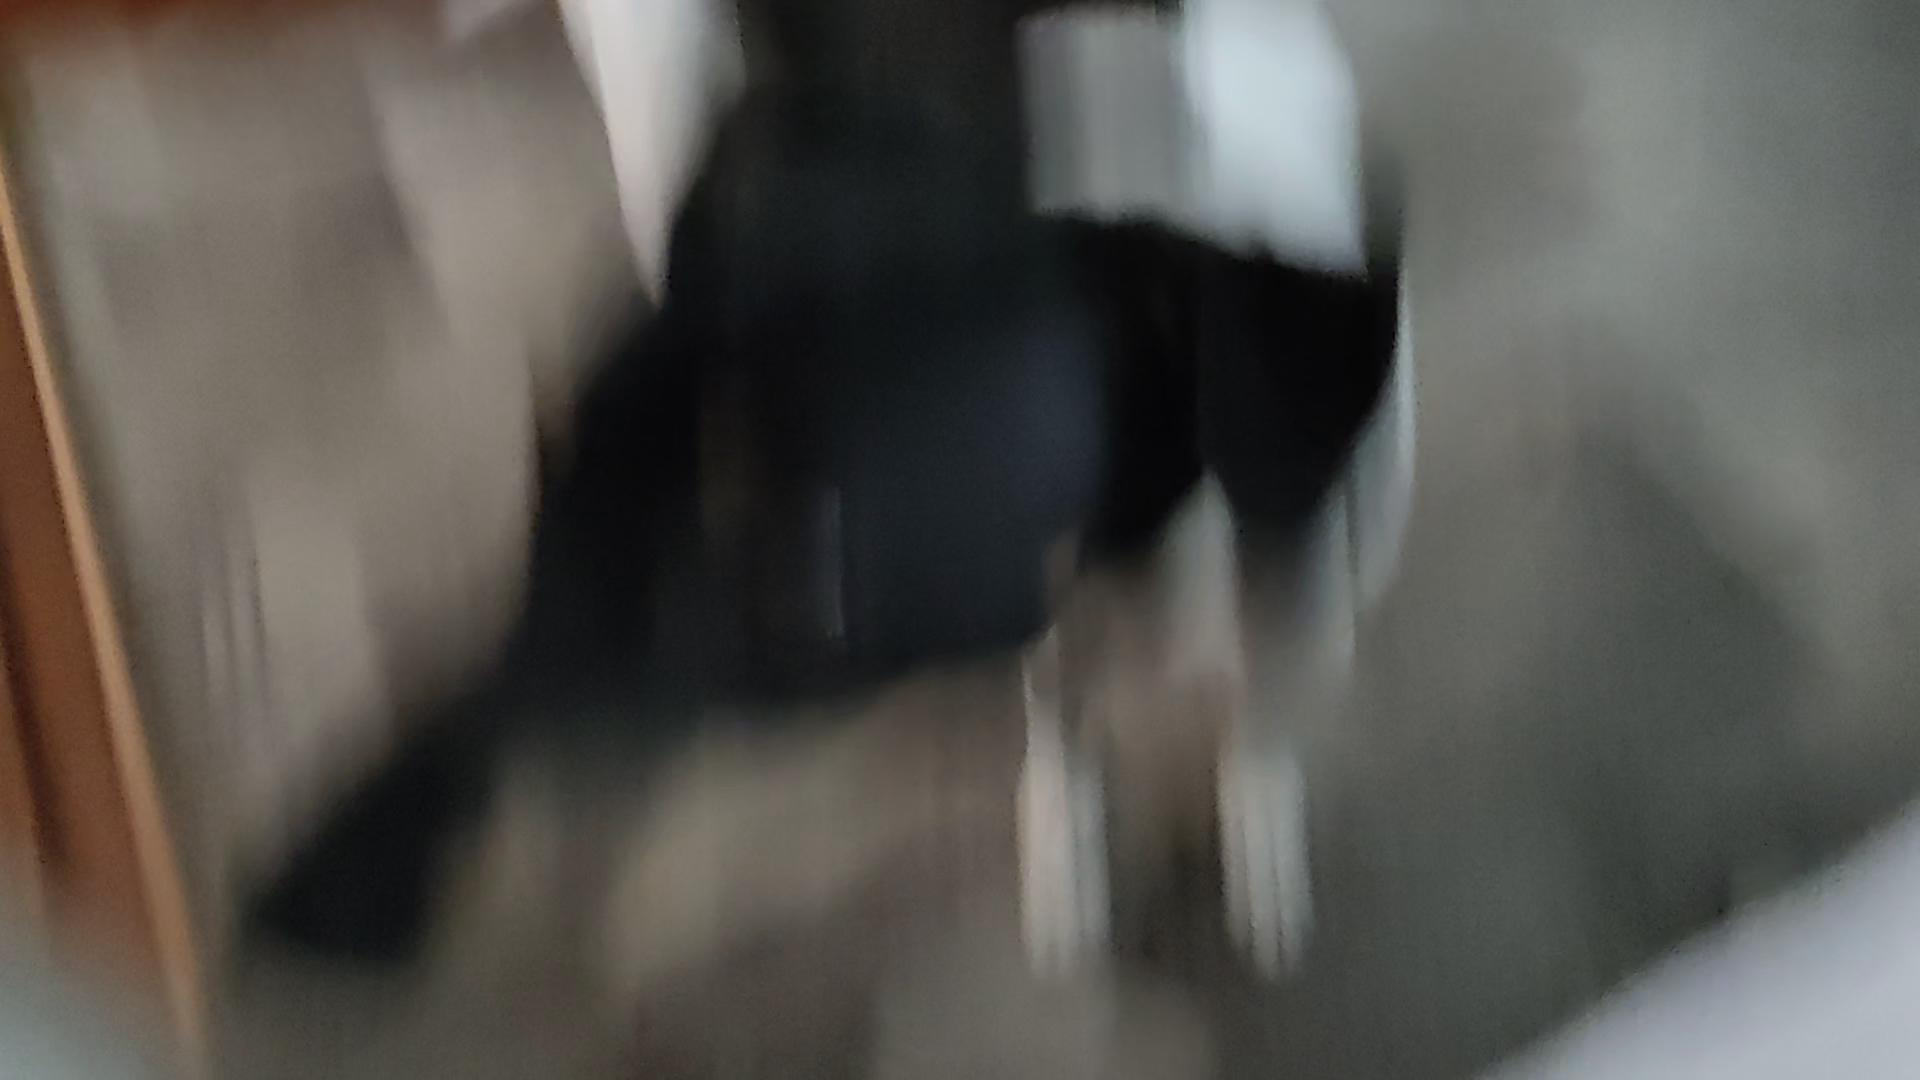Dog: (218, 0, 1433, 1048)
